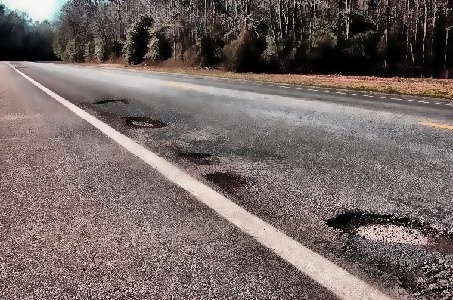pothole: (327, 210, 438, 247), (206, 170, 249, 191), (123, 115, 169, 130), (177, 150, 215, 164), (95, 97, 131, 106)
